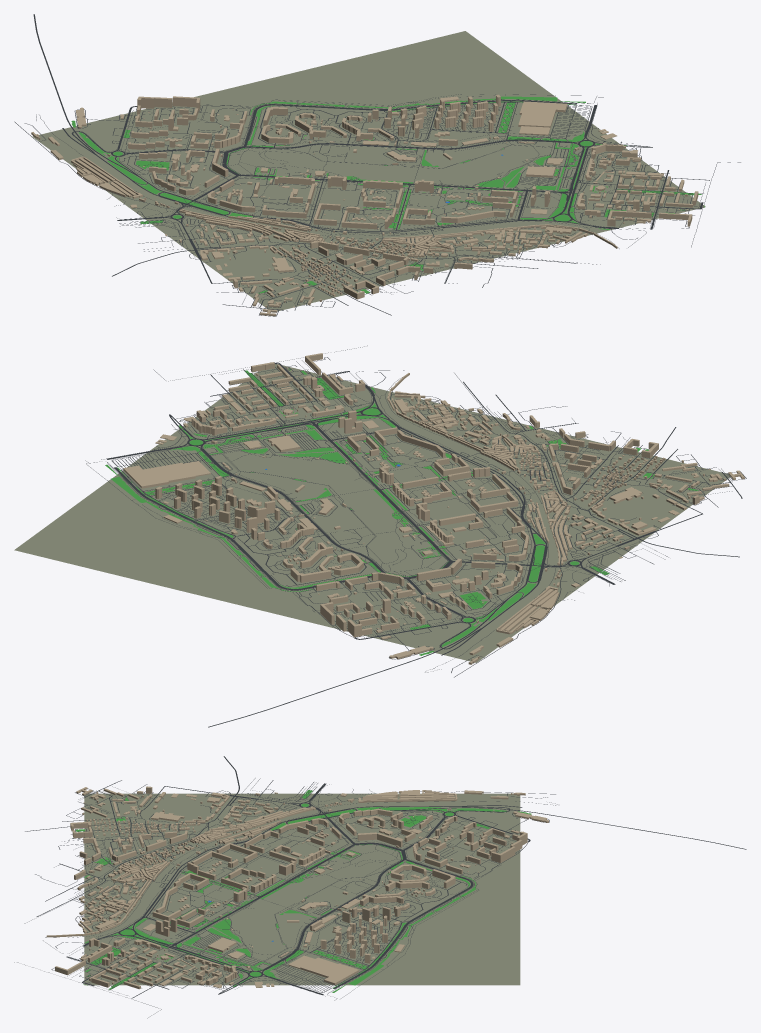
Rendered from city.glb.
3 renders of one model, top to bottom at view 1: azimuth 30°, elevation 25°; view 2: azimuth 150°, elevation 25°; view 3: azimuth 270°, elevation 25°, orthographic. The views are drawn at different scales.
Visible parts, largest first — view 1: ground, roads, building_1070660449; view 2: ground, roads, building_1070660449; view 3: ground, roads, building_1070660449, building_677018811.
Part boxes in pixels (box(x1,y1,x2,y2)): ground: box(32, 31, 705, 312); roads: box(14, 14, 740, 316); building_1070660449: box(518, 101, 567, 128); ground: box(14, 362, 730, 662); roads: box(85, 345, 746, 727); building_1070660449: box(123, 462, 195, 488); ground: box(84, 793, 520, 985); roads: box(14, 756, 746, 1018); building_1070660449: box(300, 957, 358, 984); building_677018811: box(358, 790, 457, 802).
Bounding box in the file's own units: 3438 × 72 × 4060.
